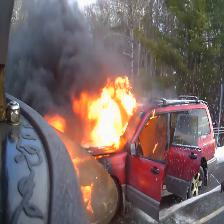fire: (53, 75, 154, 223)
smoke: (8, 2, 106, 123)
